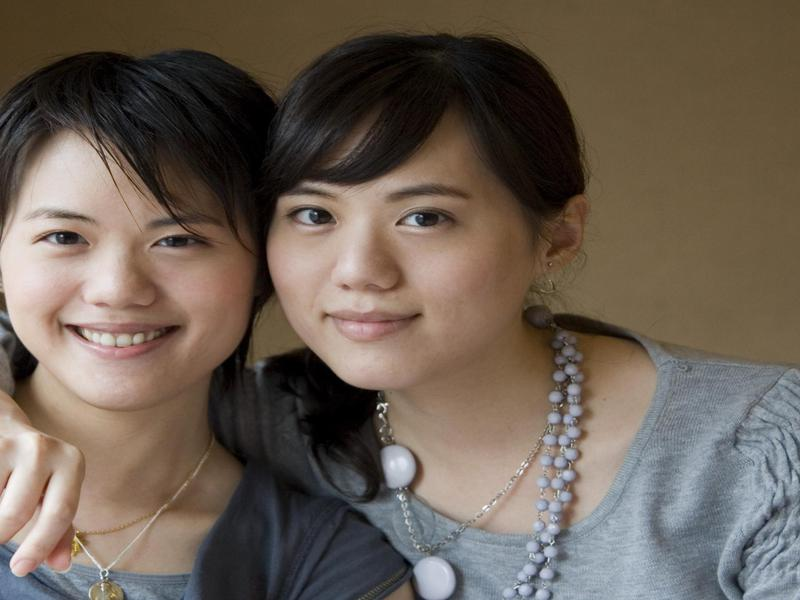person: (268, 28, 800, 598), (3, 52, 411, 600)
